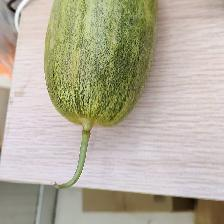gua: (58, 13, 122, 143)
